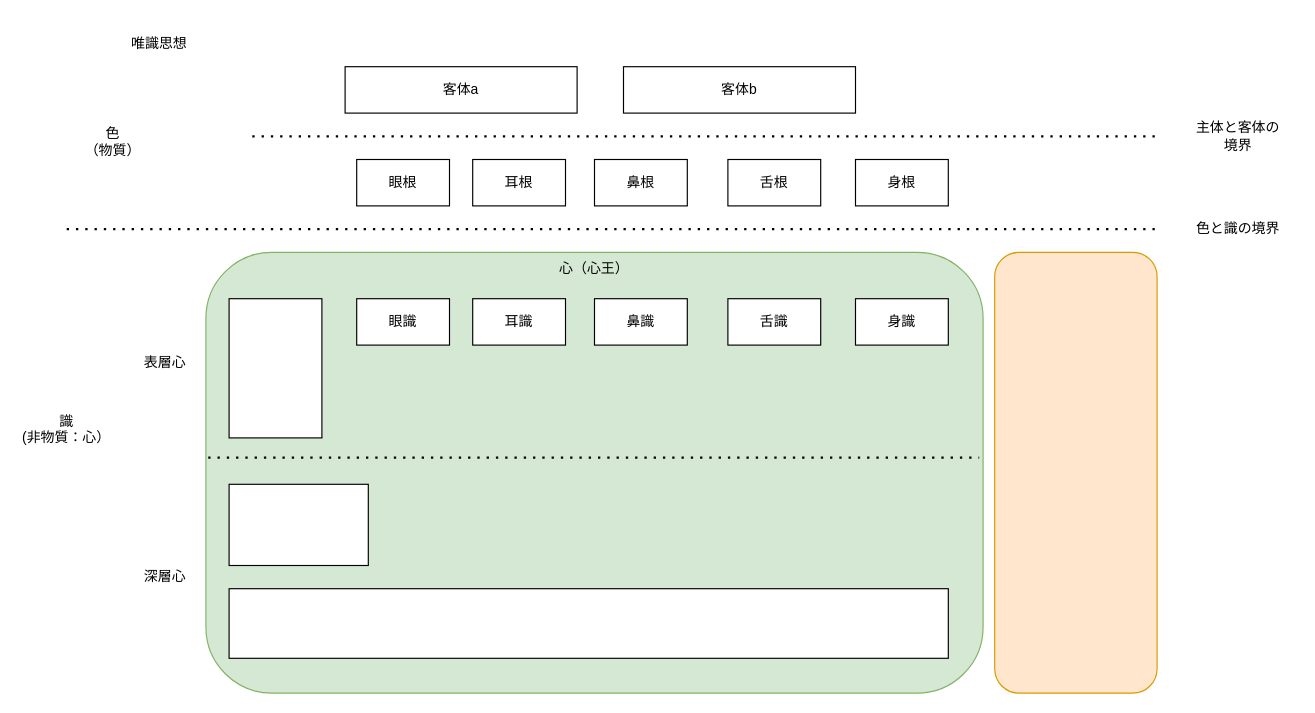
This 1315x713 diagram has some shape labels left out. The shapes that lost their labels are listed below. From the top down, each one's centre as x and y in pixels, then its label:
pixel 275 368: 意識 思考
pixel 1075 472: 心所 （細かい心作用） 遍行 別境 善 煩悩 随 煩悩 不定
pixel 298 524: 未那識（まなしき） 自我執着心
pixel 588 623: 阿頼耶識（あらやしき：蔵識） 根本心
